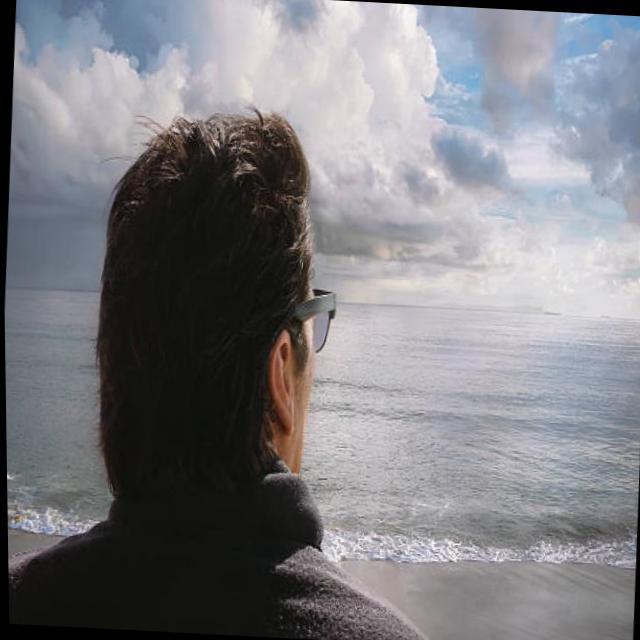no helmet: (89, 109, 322, 508)
